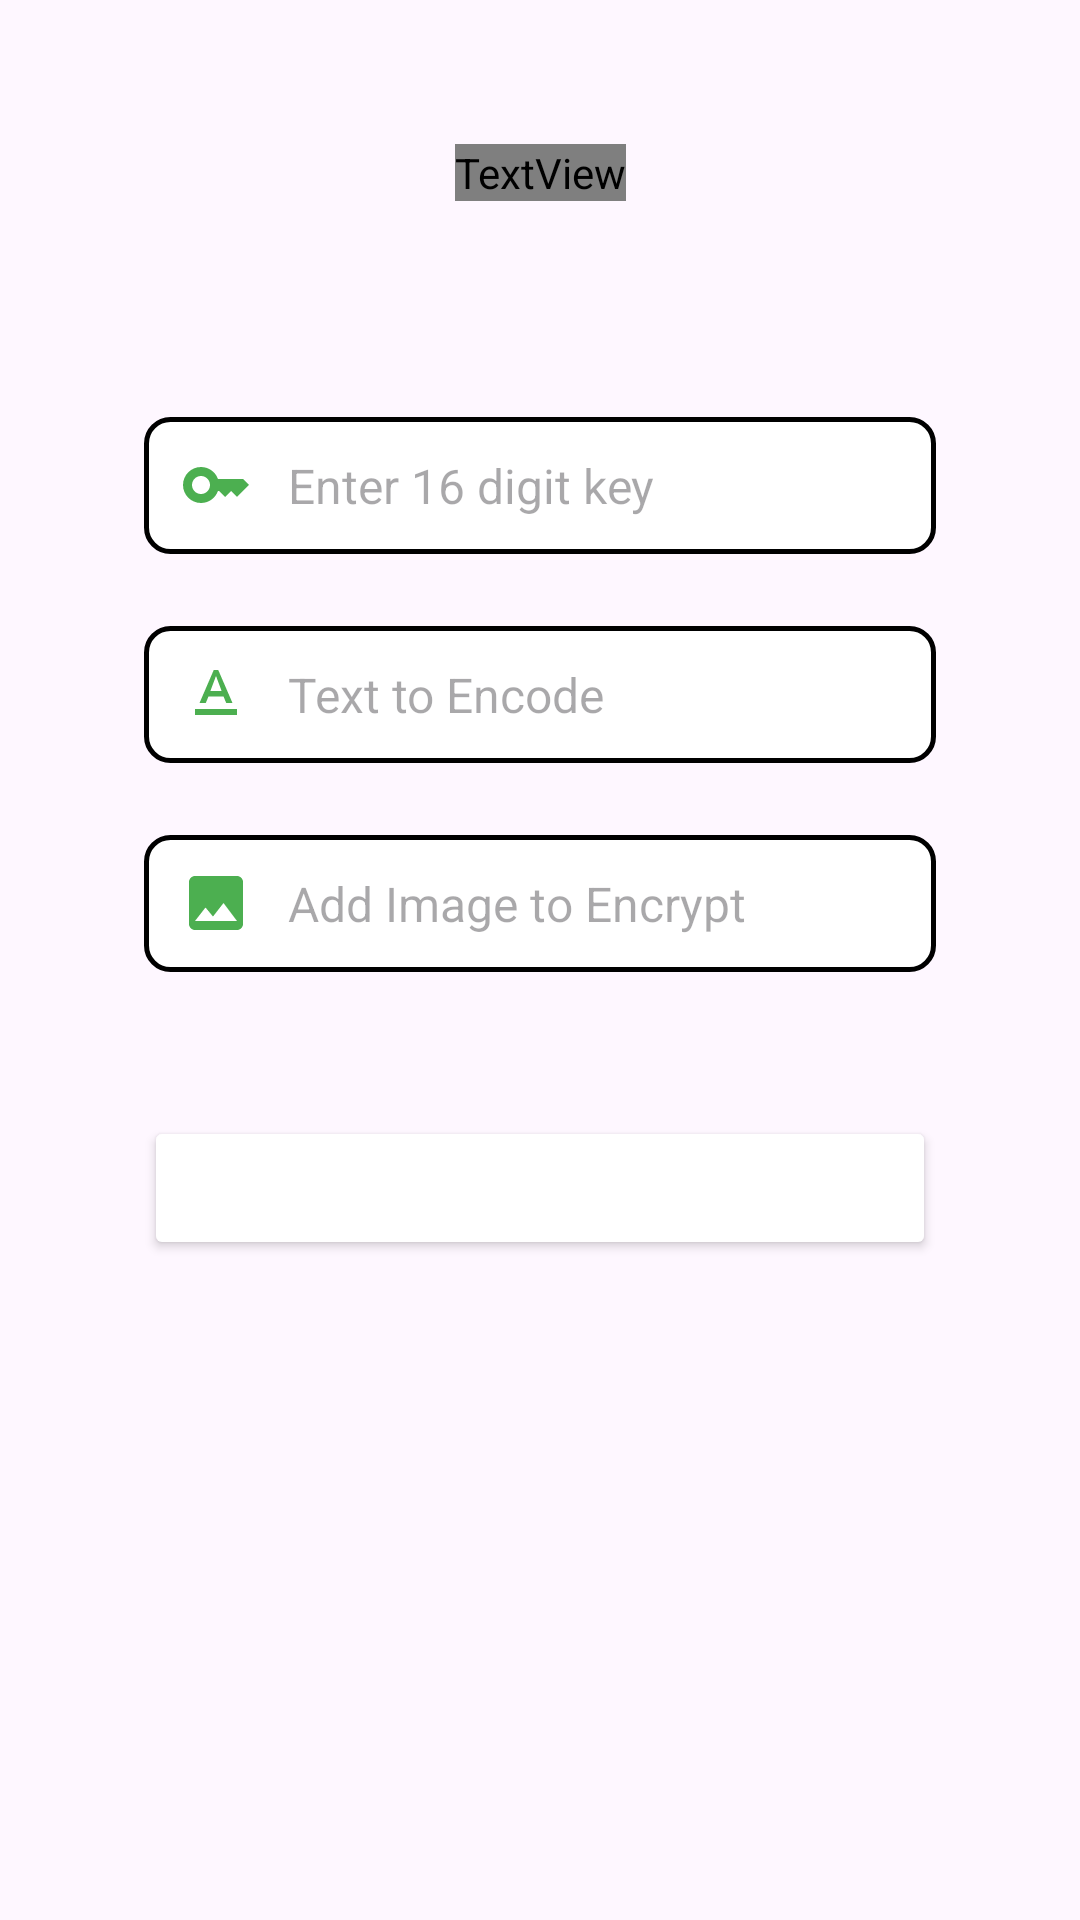

Named icons in this screenshot (1080 × 1920) and their bounding boxes, (x1=x1, y1=y1, x2=x2, y2=y2):
text format: (x1=195, y1=670, x2=237, y2=715)
